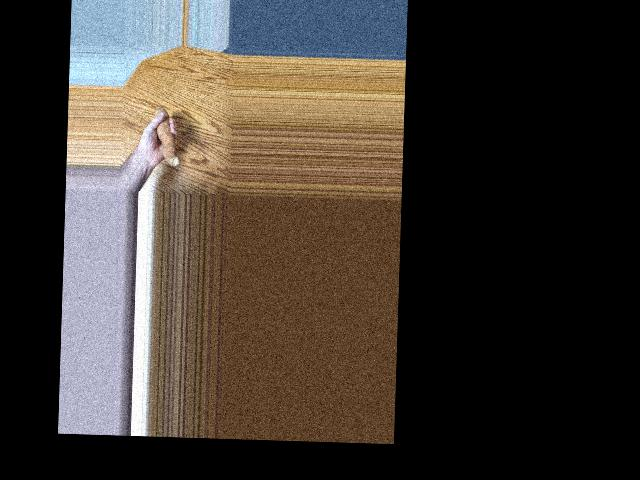sweet_potato: (154, 105, 180, 170)
